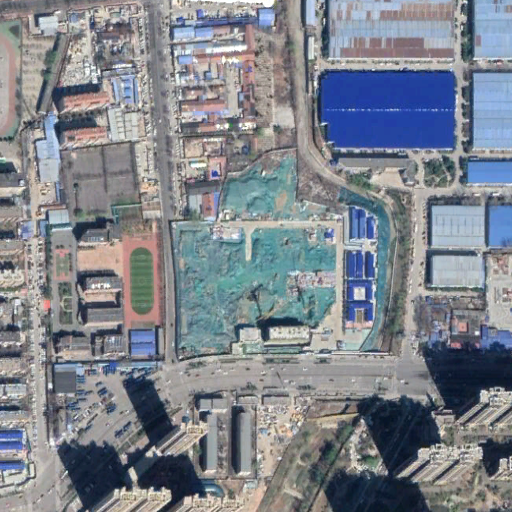cw: (169, 146, 389, 352)
